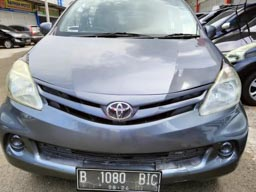plat: (77, 168, 160, 185)
